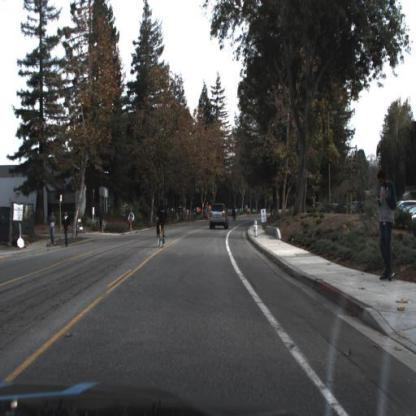biker: (155, 199, 169, 250), (127, 208, 136, 235), (129, 209, 136, 236), (247, 208, 252, 219), (193, 209, 196, 224)
car: (209, 206, 230, 231), (394, 199, 416, 217)
pedestrian: (377, 168, 397, 283), (64, 207, 70, 249), (97, 206, 105, 237), (49, 211, 56, 246), (64, 209, 70, 247), (51, 211, 57, 248), (99, 209, 104, 235), (233, 207, 238, 222)
